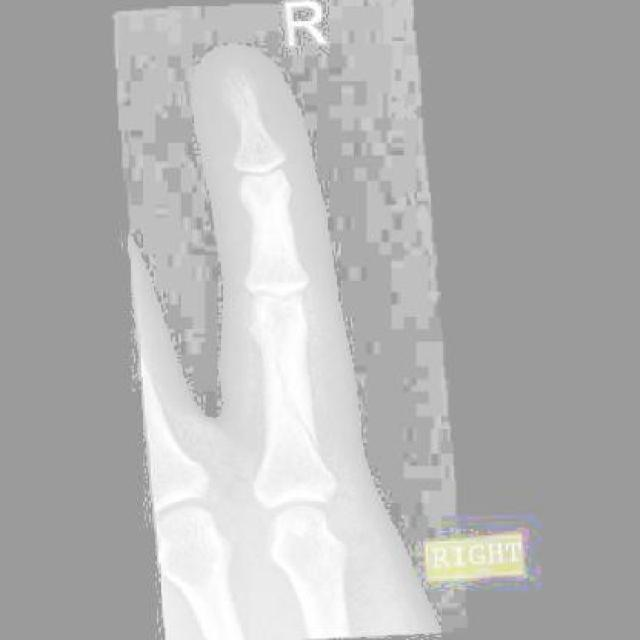Fracture: (251, 326, 329, 471)
